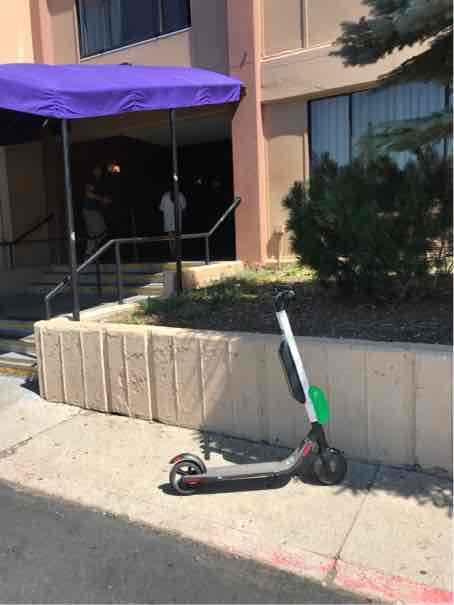scooter: (159, 267, 352, 508)
